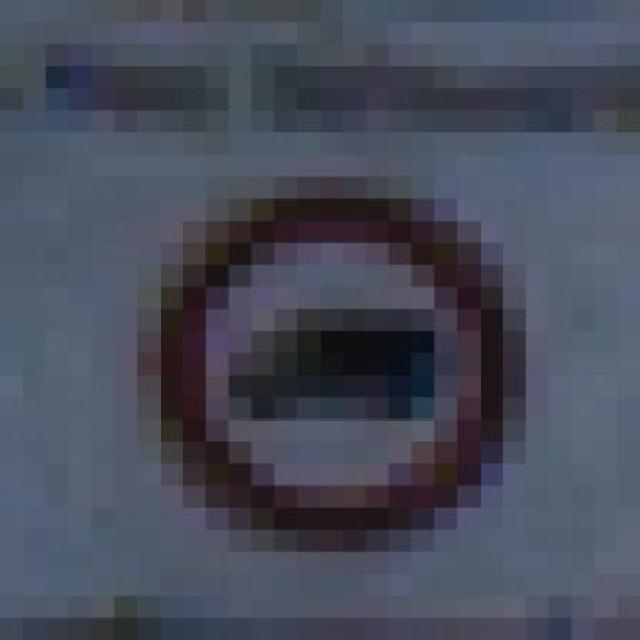Truck traffic is prohibited: (69, 154, 572, 552)
